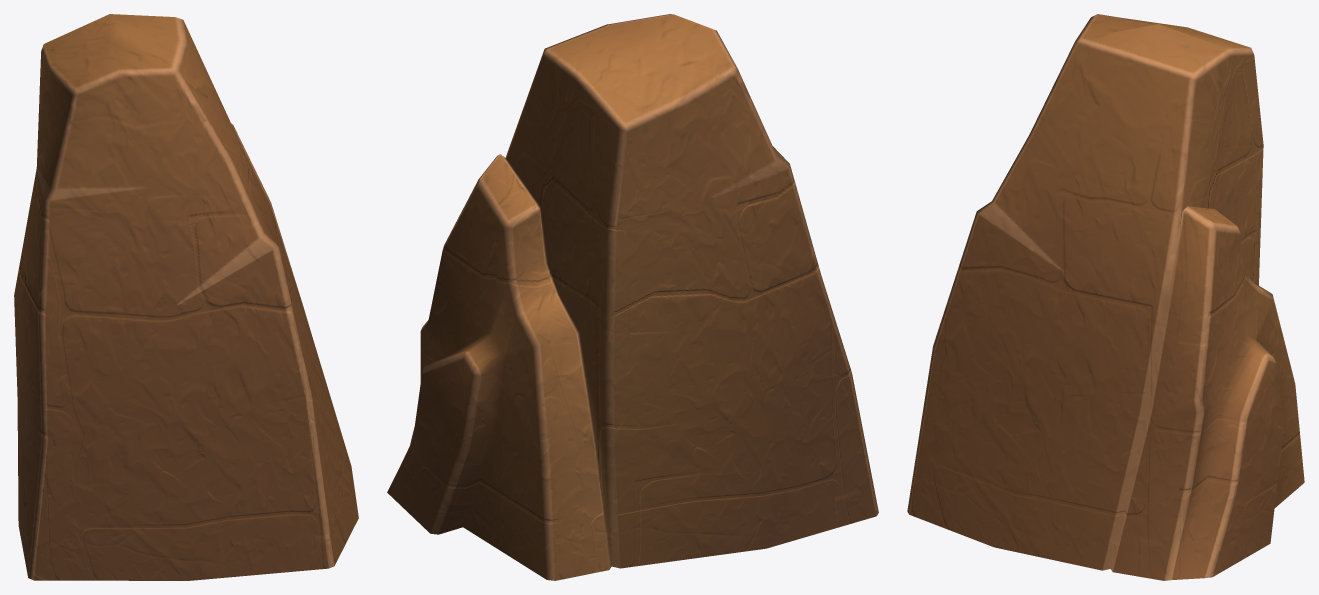
The model's file is LargeRock1.fbx.
3 views of the same model, side by side, from view 1: azimuth 30°, elevation 25°; view 2: azimuth 150°, elevation 25°; view 3: azimuth 270°, elevation 25° (orthographic). The views are drawn at different scales.
Parts seen in each view (by area): view 1: LargeRock1; view 2: LargeRock1; view 3: LargeRock1.
Boxes of the visible parts, bbox=[...] form: LargeRock1: bbox=[14, 14, 358, 580]; LargeRock1: bbox=[387, 14, 878, 580]; LargeRock1: bbox=[907, 14, 1304, 580].
Bounding box in the file's own units: 450 × 524 × 418.
